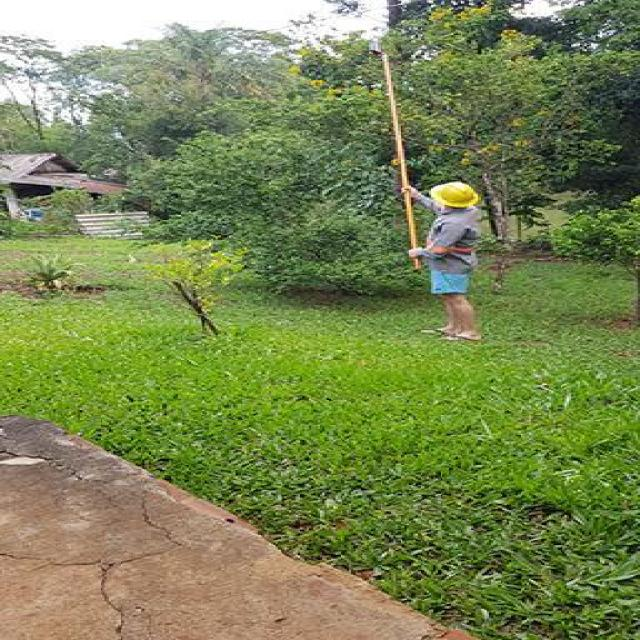helmet: (429, 180, 480, 212)
